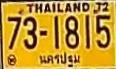1: (84, 14, 90, 48), (54, 15, 58, 48)
3: (23, 16, 36, 48)
5: (96, 14, 110, 47)
7: (8, 16, 20, 49)
8: (65, 15, 78, 48)
NPT: (37, 50, 83, 69)
